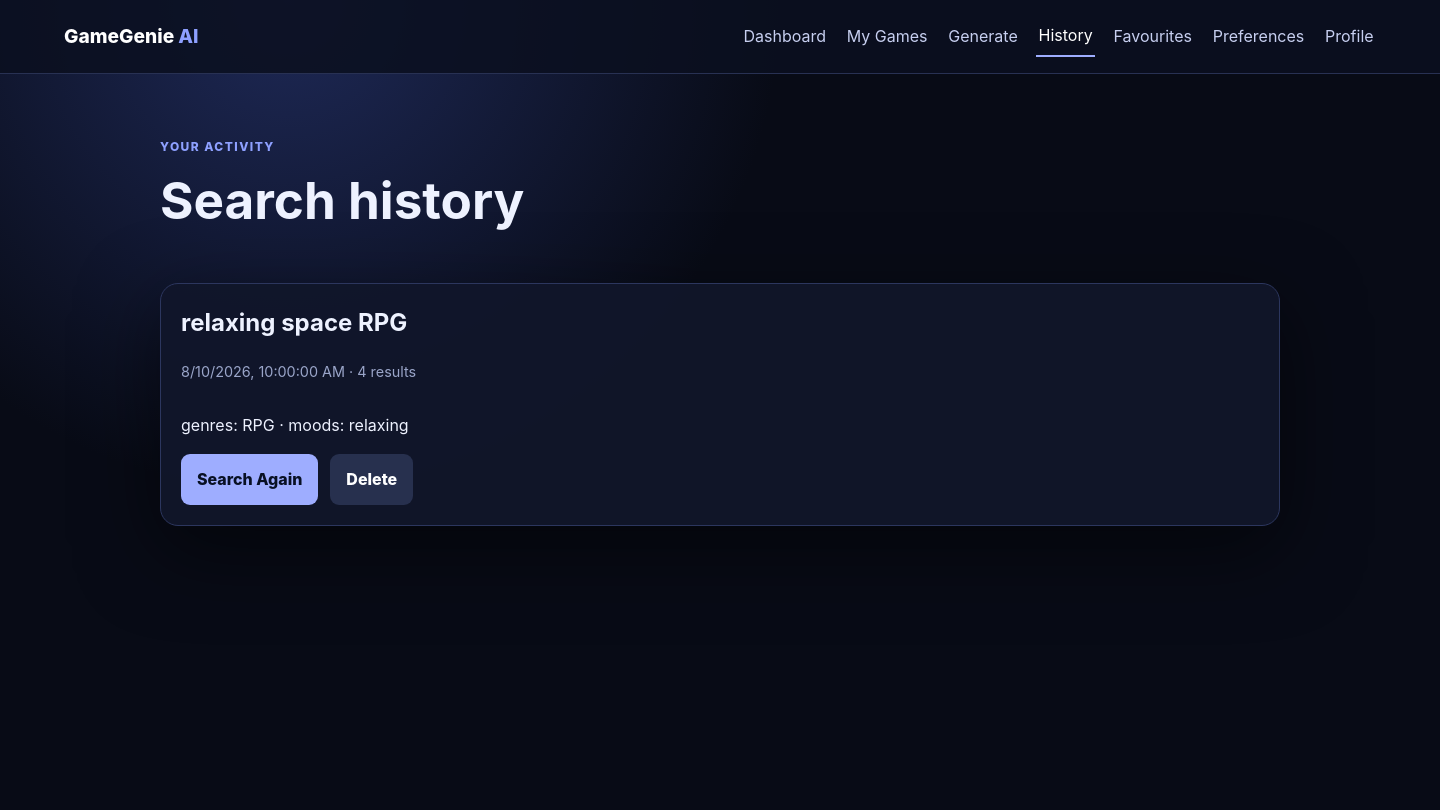
user activity UI › searches again and displays the returned recommendations
This screenshot has width=1440, height=810.
Click the button with aria-label "Search again for relaxing space RPG" at (250, 479), box [181,454,318,505]
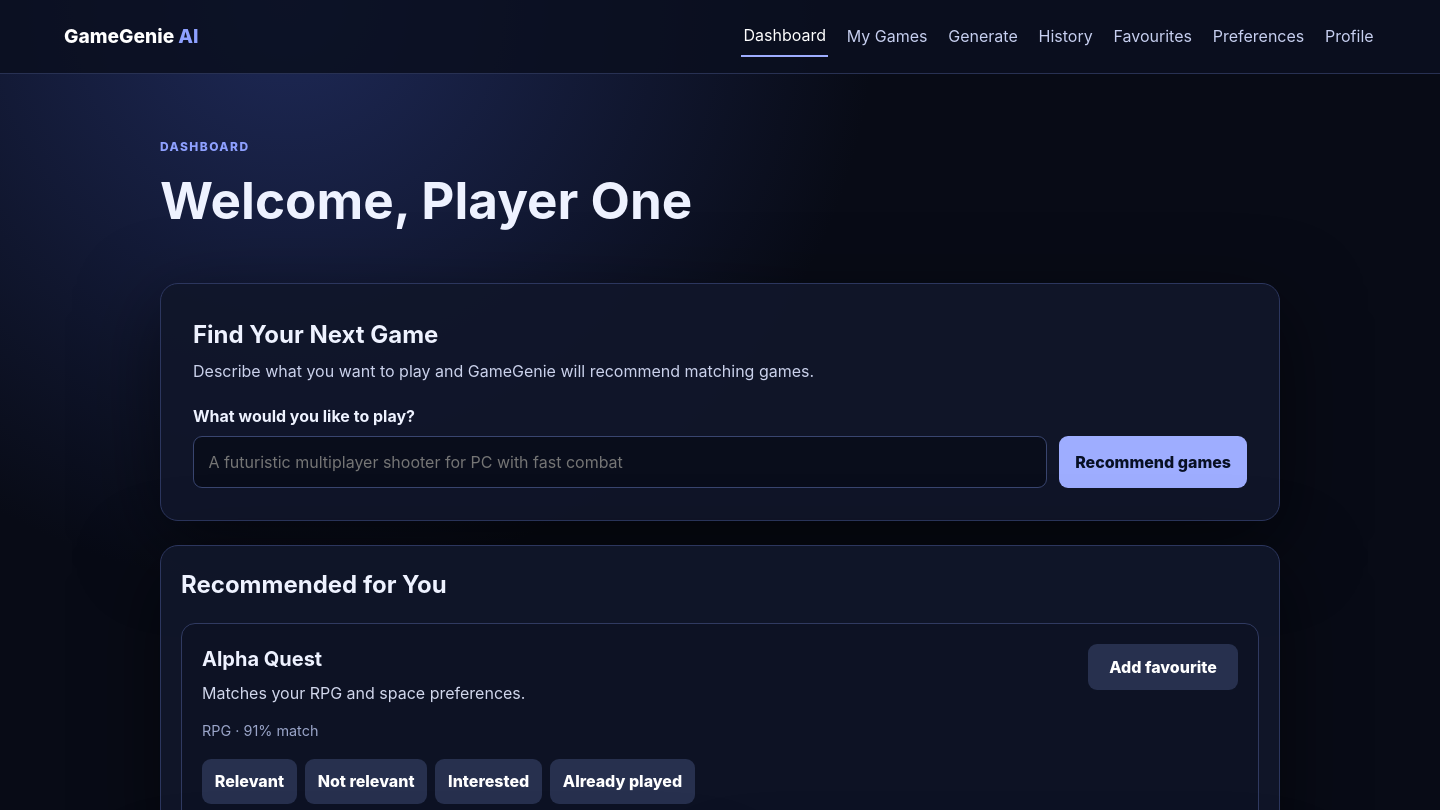
Expected: the text "Matches your RPG and space preferences." is shown, [202,683,525,703]
